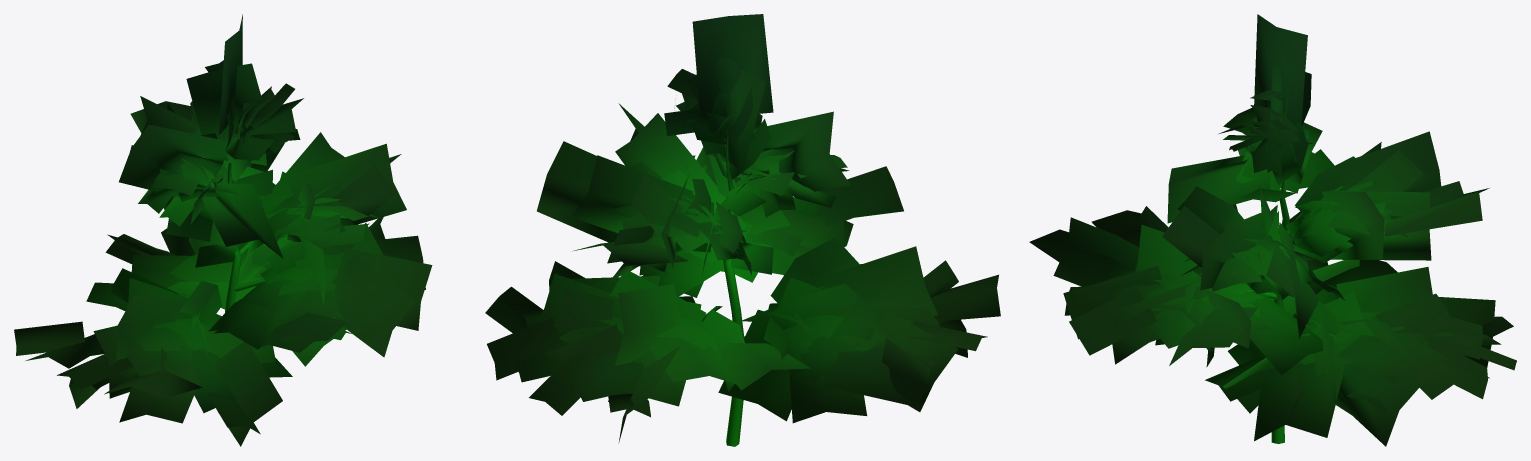
The model's file is env_nature_foliage_smallbirch02_lod0.fbx.
3 renders of one model, left to right at view 1: azimuth 30°, elevation 25°; view 2: azimuth 150°, elevation 25°; view 3: azimuth 270°, elevation 25°, orthographic. The views are drawn at different scales.
Parts seen in each view (by area): view 1: env_nature_foliage_smallbirch02_lod0; view 2: env_nature_foliage_smallbirch02_lod0; view 3: env_nature_foliage_smallbirch02_lod0.
Boxes of the visible parts, bbox=[...] form: env_nature_foliage_smallbirch02_lod0: bbox=[14, 14, 432, 446]; env_nature_foliage_smallbirch02_lod0: bbox=[485, 14, 1000, 446]; env_nature_foliage_smallbirch02_lod0: bbox=[1029, 14, 1516, 446].
Size of the model in its own units: 22.4 by 22.21 by 23.45.
